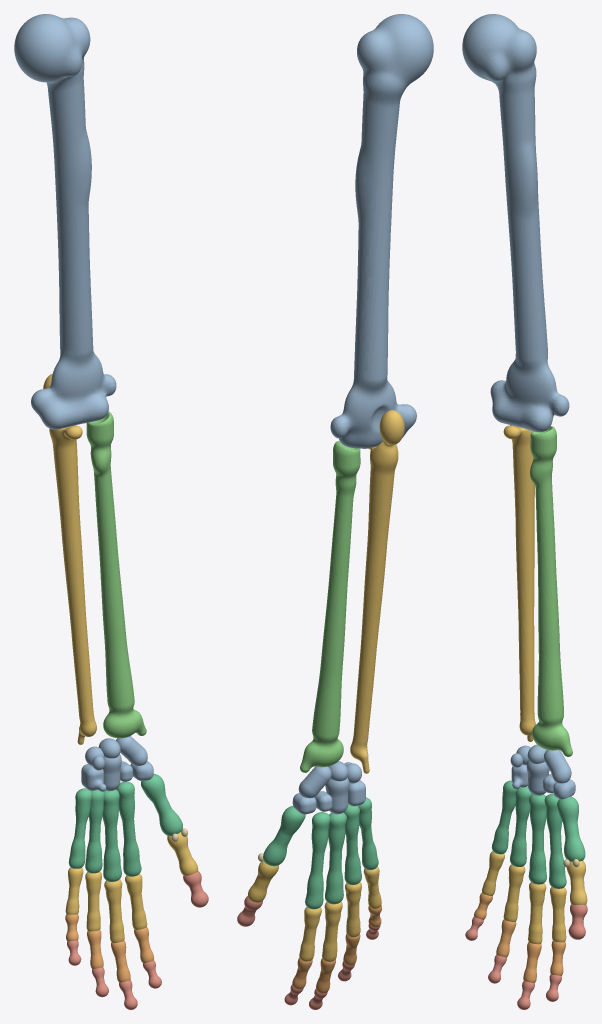
The model's file is esqueleto-brazo.glb.
3 renders of one model, left to right at view 1: azimuth 30°, elevation 25°; view 2: azimuth 210°, elevation 25°; view 3: azimuth 330°, elevation 25°, orthographic. The views are drawn at different scales.
Parts seen in each view (by area): view 1: humerus_L, radius_L, ulna_L, metacarpal_2_index_L, metacarpal_3_middle_L, metacarpal_1_thumb_L, metacarpal_4_ring_L, metacarpal_5_little_L, middle_proximal_phalanx_L, ring_proximal_phalanx_L, index_proximal_phalanx_L, thumb_proximal_phalanx_L (+7 smaller); view 2: humerus_L, radius_L, ulna_L, metacarpal_2_index_L, metacarpal_3_middle_L, metacarpal_1_thumb_L, metacarpal_4_ring_L, metacarpal_5_little_L, middle_proximal_phalanx_L, index_proximal_phalanx_L, ring_proximal_phalanx_L, scaphoid_L (+3 smaller); view 3: humerus_L, radius_L, ulna_L, metacarpal_3_middle_L, metacarpal_2_index_L, metacarpal_1_thumb_L, metacarpal_4_ring_L, metacarpal_5_little_L, middle_proximal_phalanx_L, ring_proximal_phalanx_L, index_proximal_phalanx_L, thumb_proximal_phalanx_L (+11 smaller).
Part boxes in pixels (x1,y1,x2,y2): humerus_L: (14, 14, 116, 429); radius_L: (86, 411, 146, 738); ulna_L: (43, 374, 96, 744); metacarpal_2_index_L: (116, 781, 141, 876); metacarpal_3_middle_L: (102, 789, 121, 881); metacarpal_1_thumb_L: (141, 773, 182, 835); metacarpal_4_ring_L: (85, 790, 104, 873); metacarpal_5_little_L: (68, 788, 92, 868); middle_proximal_phalanx_L: (104, 879, 124, 942); ring_proximal_phalanx_L: (85, 871, 101, 931); index_proximal_phalanx_L: (125, 873, 147, 929); thumb_proximal_phalanx_L: (167, 832, 198, 875); humerus_L: (330, 14, 433, 448); radius_L: (300, 441, 360, 772); ulna_L: (350, 410, 404, 773); metacarpal_2_index_L: (305, 812, 330, 909); metacarpal_3_middle_L: (325, 812, 346, 904); metacarpal_1_thumb_L: (263, 806, 305, 866); metacarpal_4_ring_L: (344, 804, 361, 884); metacarpal_5_little_L: (358, 797, 378, 870); middle_proximal_phalanx_L: (322, 901, 342, 961); index_proximal_phalanx_L: (299, 907, 321, 961); ring_proximal_phalanx_L: (345, 882, 361, 937); scaphoid_L: (298, 766, 331, 798); humerus_L: (462, 14, 569, 432); radius_L: (530, 426, 572, 756); ulna_L: (503, 425, 535, 741); metacarpal_3_middle_L: (528, 794, 546, 884); metacarpal_2_index_L: (544, 793, 566, 888); metacarpal_1_thumb_L: (557, 796, 585, 861); metacarpal_4_ring_L: (510, 786, 531, 866); metacarpal_5_little_L: (491, 780, 517, 854); middle_proximal_phalanx_L: (528, 882, 546, 944); ring_proximal_phalanx_L: (503, 864, 525, 921); index_proximal_phalanx_L: (550, 887, 566, 942); thumb_proximal_phalanx_L: (566, 861, 587, 904).
Size of the model in its own units: 0.1217 by 0.7376 by 0.0784.
